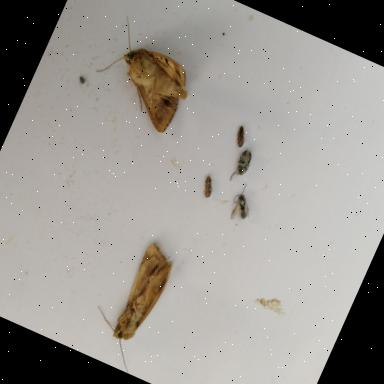abw: (81, 9, 211, 140), (77, 229, 187, 373)
